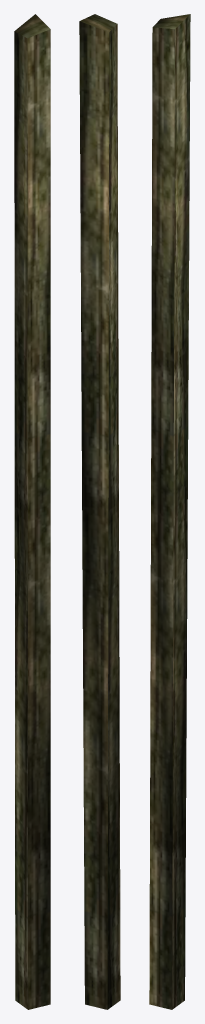
Rendered from PC_LOB_BRIDGE_PLANK_HUGE.glb.
3 renders of one model, left to right at view 1: azimuth 30°, elevation 25°; view 2: azimuth 150°, elevation 25°; view 3: azimuth 330°, elevation 25°, orthographic.
Visible parts, largest first — view 1: Mesh; view 2: Mesh; view 3: Mesh.
Boxes of the visible parts, left/top/right/bottom form: Mesh: left=14, top=14, right=50, bottom=1009; Mesh: left=79, top=14, right=120, bottom=1009; Mesh: left=149, top=14, right=190, bottom=1009.
Bounding box in the file's own units: 0.3348 × 12.3 × 0.3821.
Materials: 1 (1 with a texture image).
